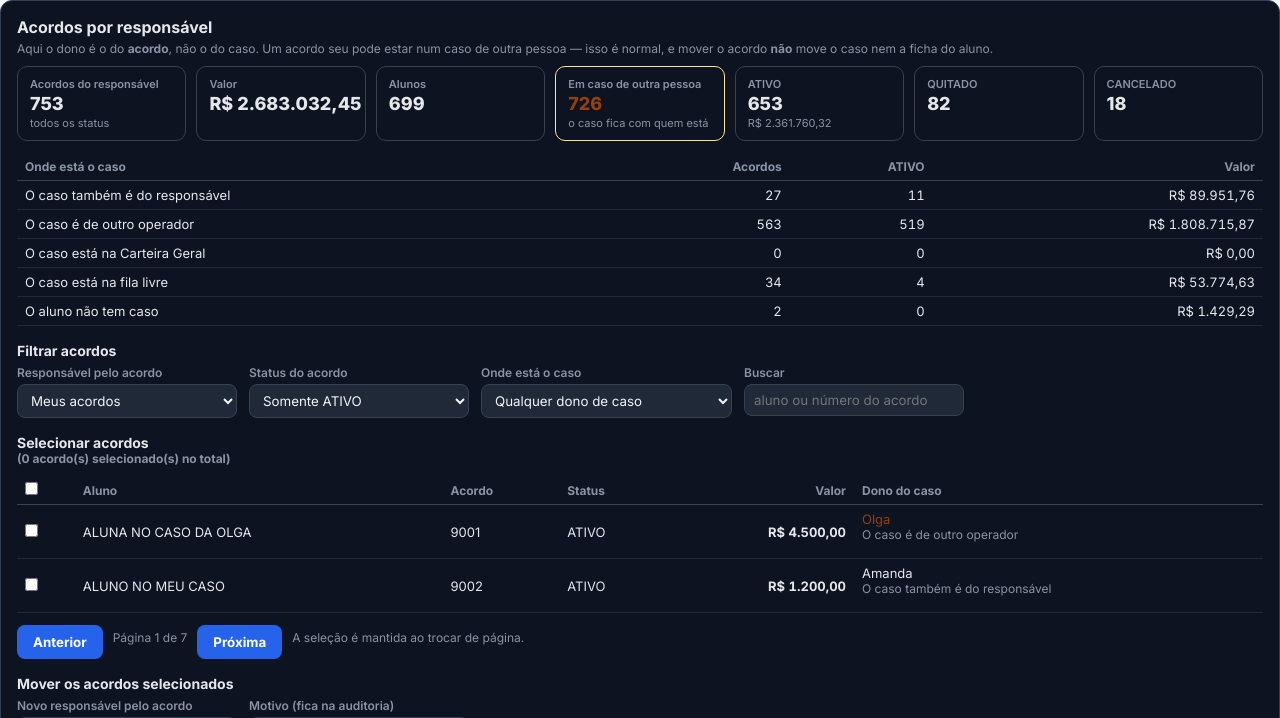
Acordos por responsável — a tela › não deixa gerar prévia sem destino e sem motivo
This screenshot has width=1280, height=718.
Expected: the text "ALUNA NO CASO DA OLGA" is shown, [75, 504, 442, 558]
Click the checkbox named "Selecionar acordo 9001": (32, 530) [25, 524, 38, 536]
(page scrolled)
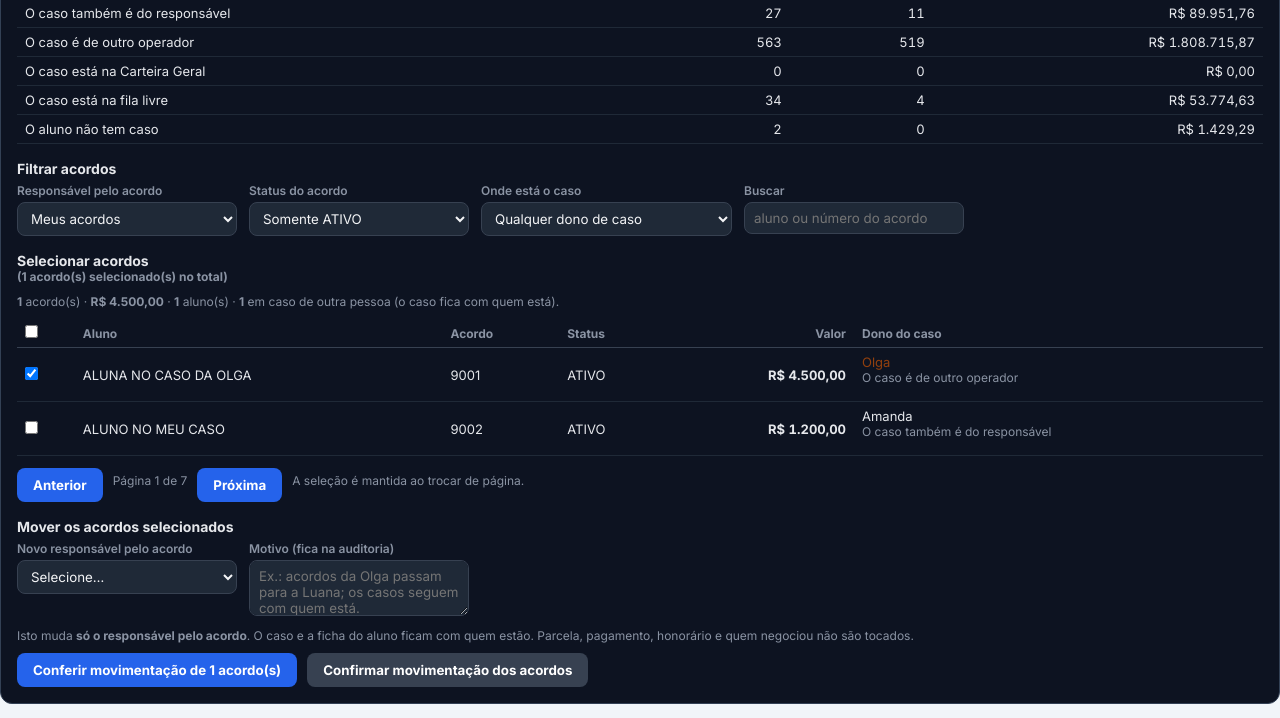
Click the button "Conferir movimentação de 1 acordo(s)": (157, 670) [17, 653, 297, 687]
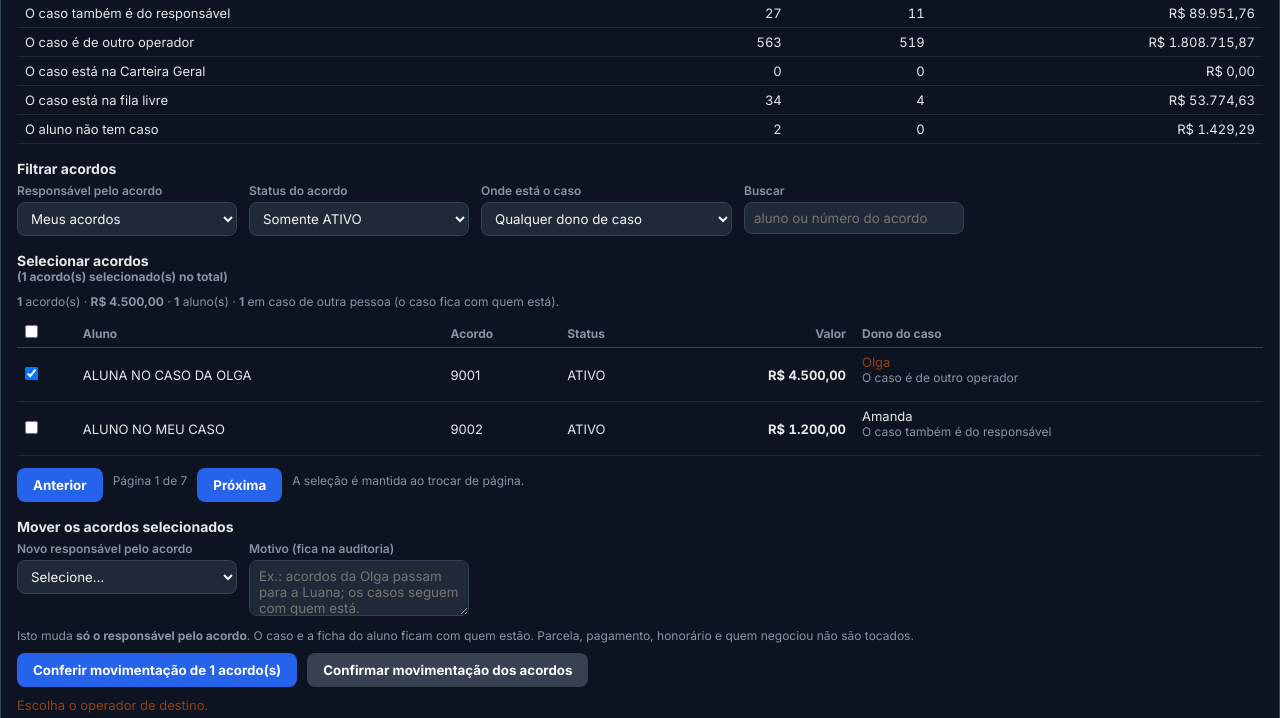
Now the text "Escolha o operador de destino." is shown, box [17, 697, 208, 713]
